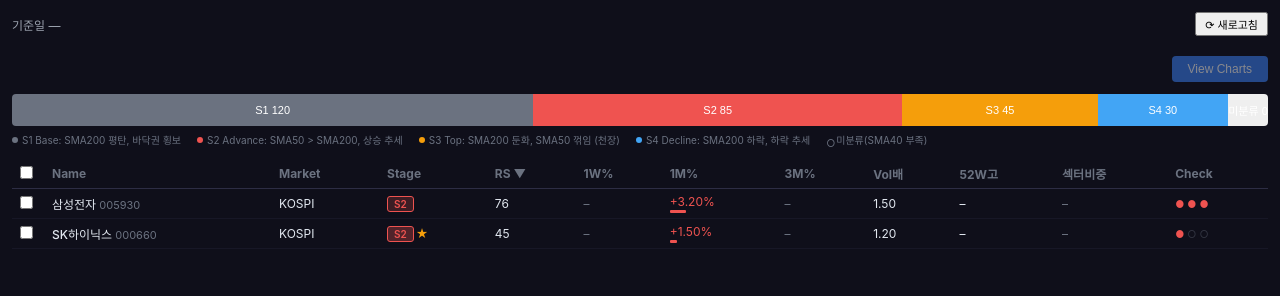
StockExplorer › should filter table by stage when distribution bar segment is clicked
Check: the text "삼성전자" is shown, box [52,197,96,212]
Click the button named "stage 1" at (273, 110), box [12,94,533,126]
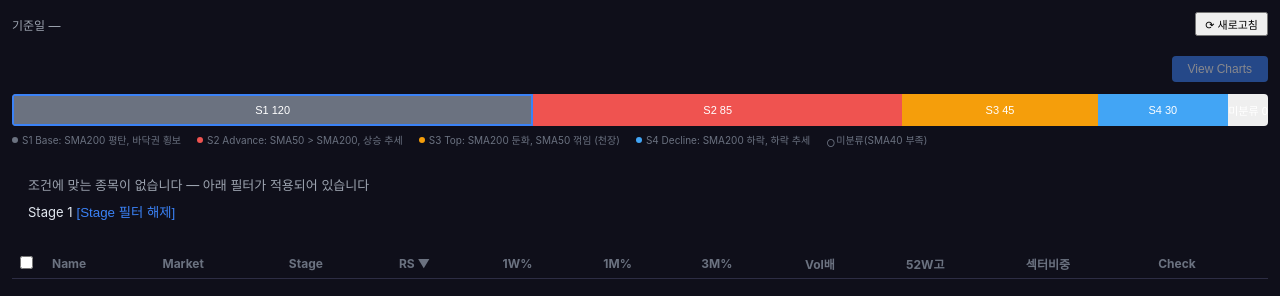
Check: the text "삼성전자" is gone
